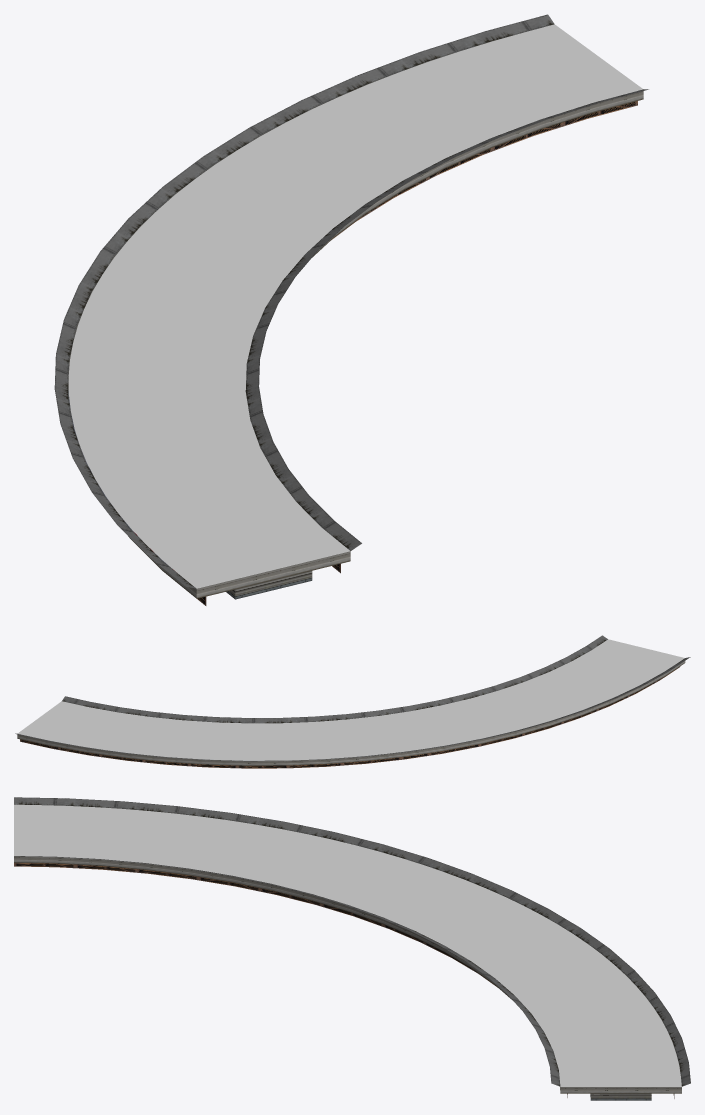
The model's file is Bend3x3.fbx.
The picture shows the model from 3 angles, top to bottom: view 1: azimuth 30°, elevation 25°; view 2: azimuth 150°, elevation 25°; view 3: azimuth 270°, elevation 25°; orthographic projection. The views are drawn at different scales.
Visible parts, largest first — view 1: Empty_Mesh; view 2: Empty_Mesh; view 3: Empty_Mesh.
Boxes of the visible parts, box(x1,y1,x2,y2) form: Empty_Mesh: box(54, 14, 648, 605); Empty_Mesh: box(15, 635, 690, 768); Empty_Mesh: box(14, 797, 690, 1100).
Bounding box in the file's own units: 89.2 × 2.5 × 89.2.
